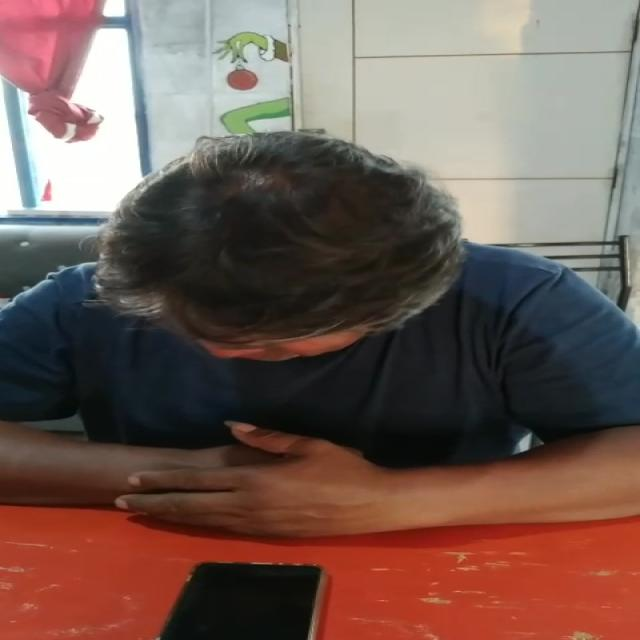9_cabeza_baja: (104, 132, 456, 362)
